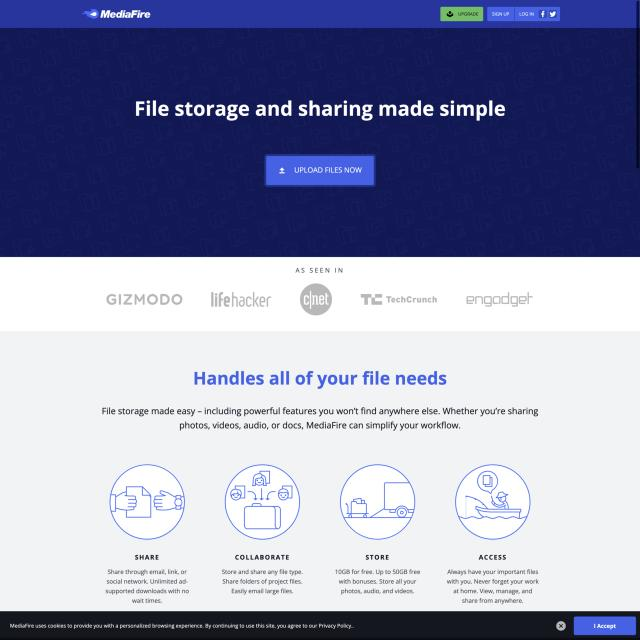logo: (210, 291, 272, 309), (360, 292, 438, 306), (300, 282, 332, 316), (466, 292, 533, 308), (106, 293, 182, 306), (82, 8, 151, 22)
